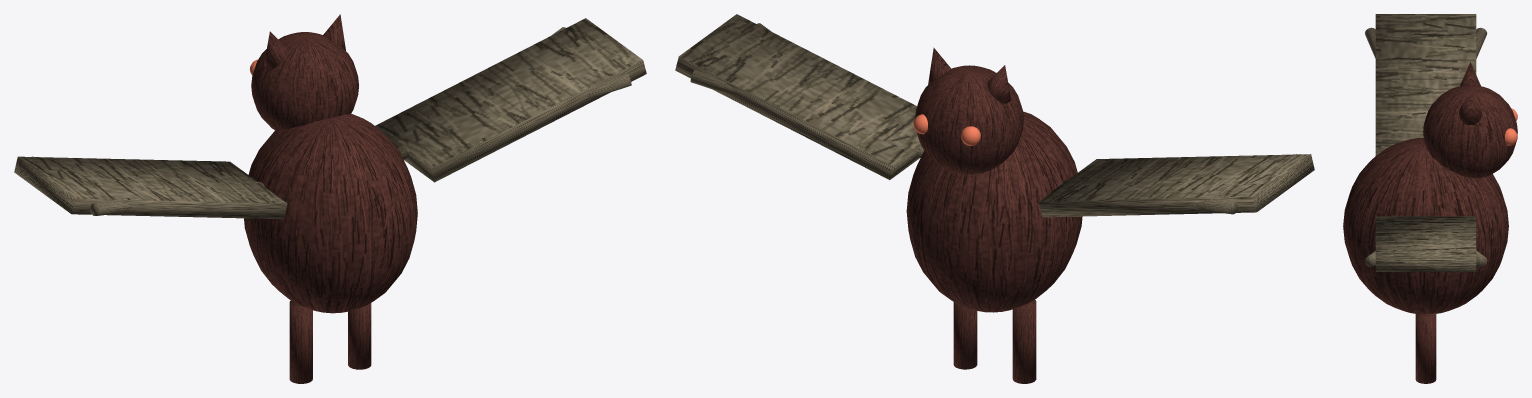
File: death-bat.glb
3 renders of one model, left to right at view 1: azimuth 30°, elevation 25°; view 2: azimuth 150°, elevation 25°; view 3: azimuth 270°, elevation 25°, orthographic. The views are drawn at different scales.
Visible parts, largest first — view 1: Body, Wing.001, Wing, Head, Leg, Leg.001, Finger.003, Ear; view 2: Body, Wing.001, Wing, Head, Leg, Leg.001, Finger.005, Ear; view 3: Body, Wing, Head, Wing.001, Leg.001, Ear.001, Ear, Finger.002, Finger, Eye.001.
Boxes of the visible parts, <box> form: Body: <box>244,113,417,313</box>; Wing.001: <box>375,18,646,182</box>; Wing: <box>14,156,287,219</box>; Head: <box>251,32,358,130</box>; Leg: <box>289,300,312,383</box>; Leg.001: <box>348,303,371,369</box>; Finger.003: <box>399,73,631,160</box>; Ear: <box>264,31,287,69</box>; Body: <box>906,111,1082,312</box>; Wing.001: <box>675,14,921,179</box>; Wing: <box>1038,154,1314,217</box>; Head: <box>915,65,1023,174</box>; Leg: <box>1012,299,1036,383</box>; Leg.001: <box>953,302,977,369</box>; Finger.005: <box>690,69,924,157</box>; Ear: <box>987,65,1010,103</box>; Body: <box>1343,138,1508,313</box>; Wing: <box>1375,14,1476,155</box>; Head: <box>1423,85,1517,178</box>; Wing.001: <box>1375,216,1476,271</box>; Leg.001: <box>1415,313,1436,383</box>; Ear.001: <box>1459,92,1481,124</box>; Ear: <box>1460,62,1480,85</box>; Finger.002: <box>1476,27,1487,58</box>; Finger: <box>1365,27,1375,58</box>; Eye.001: <box>1505,128,1517,145</box>.
Bounding box in the file's own units: 1.79 × 0.9839 × 0.5366.
Materials: 3 (2 with a texture image).
